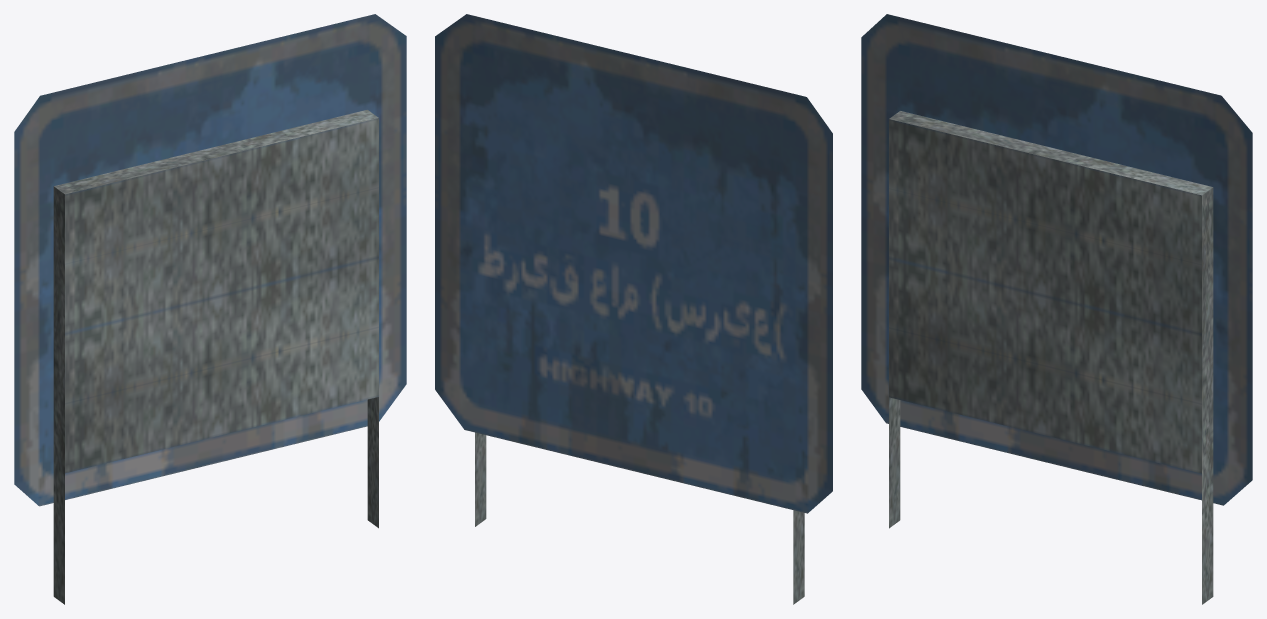
File: Mis04_RoadSign01.glb
3 views of the same model, side by side, from view 1: azimuth 30°, elevation 25°; view 2: azimuth 150°, elevation 25°; view 3: azimuth 330°, elevation 25° (orthographic).
Visible parts, largest first — view 1: MIS04_ROADSIGN01; view 2: MIS04_ROADSIGN01; view 3: MIS04_ROADSIGN01.
Boxes of the visible parts, x1,y1,x2,y2 form: MIS04_ROADSIGN01: (14,14,406,604); MIS04_ROADSIGN01: (435,14,832,604); MIS04_ROADSIGN01: (861,14,1252,604).
Bounding box in the file's own units: 2 × 2.46 × 0.101.
Materials: 1 (1 with a texture image).
